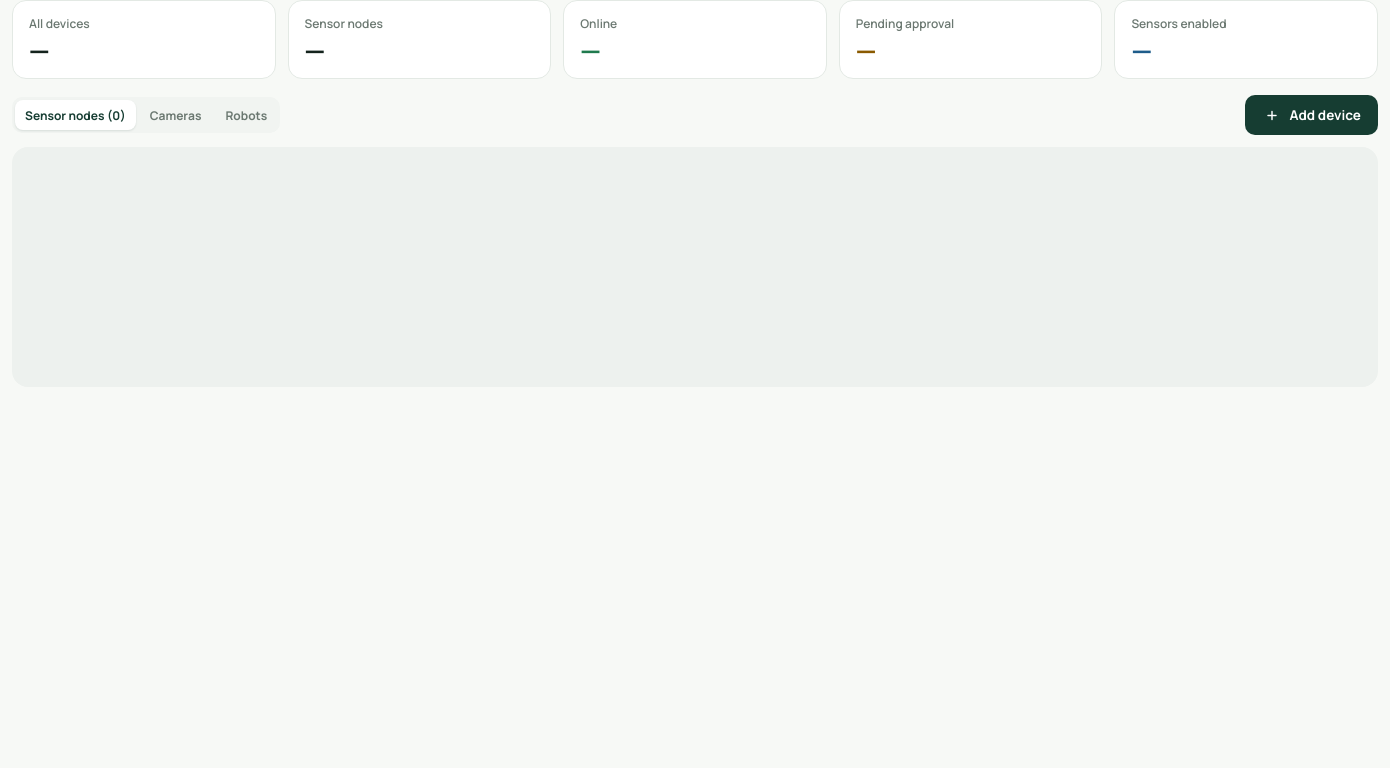
Test case: USB cameras on Lefi Brain's PC (ADR-073) › adds a detected camera of a supported model
The width and height of the screenshot is (1390, 768).
Later steps or results of the test are not shown.
Click the tab "Cameras".
click(176, 115)  # box [140,100,211,130]
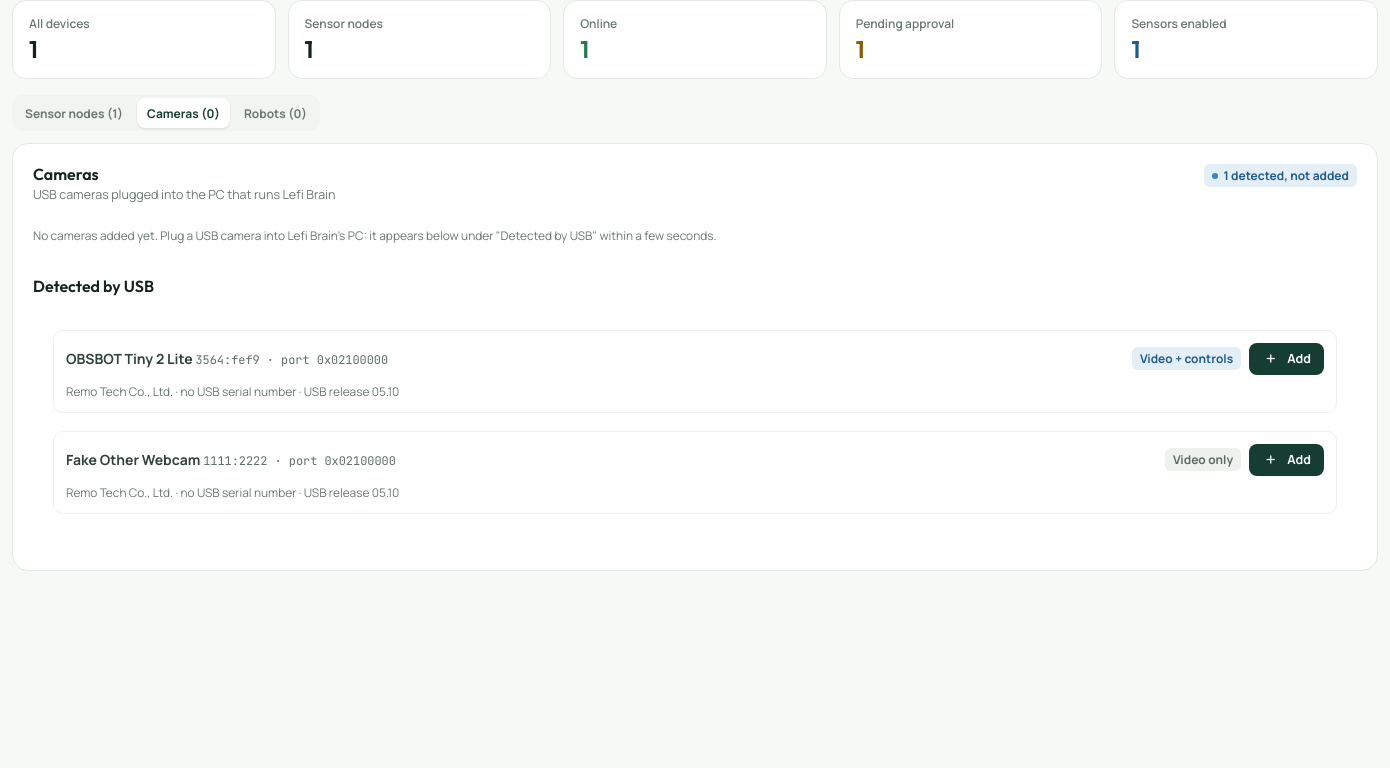
Now the text "Fake Other Webcam" is shown, box [66,450,200,469]
Now the text "Video only" is shown, box [1165,448,1241,471]
Now the number of buttons "Add" is 2, box [1249,343,1324,375]; [1249,444,1324,476]
